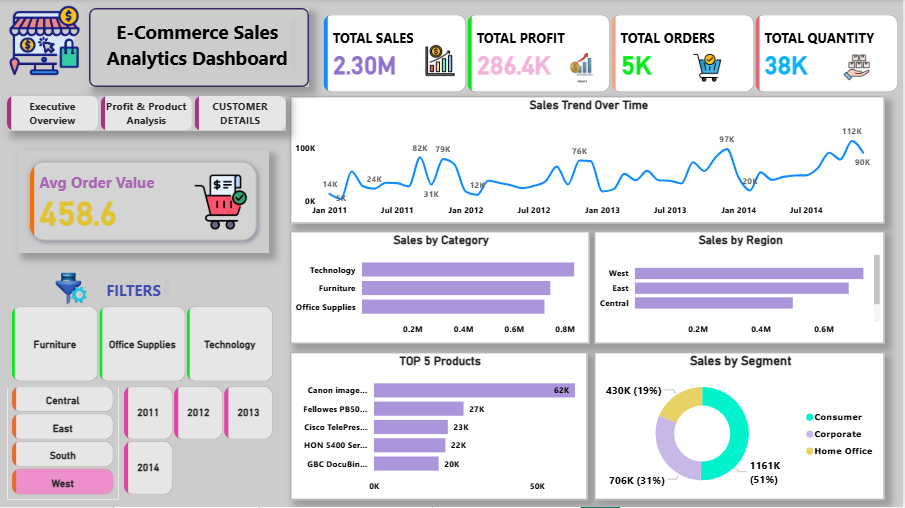

What the dashboard file says about the page in this screenshot:
{"tool":"powerbi","page":{"name":"Executive Overview","canvas":[1280,720],"ordinal":0},"visuals":[{"type":"cardVisual","fields":{"Data":["Superstore.TOTAL SALES","Superstore.TOTAL PROFIT","Superstore.TOTAL ORDERS","Superstore.TOTAL QUANTITY"]},"box":[455,17,824.9,120.5],"z":0},{"type":"lineChart","title":"Sales Trend Over Time","fields":{"Category":["Calendar.Date.Variation.Date Hierarchy.Year","Calendar.Date.Variation.Date Hierarchy.Month"],"Y":["Sum(Superstore.Sales)"]},"box":[412.4,137.5,843.3,181.4],"z":1000},{"type":"barChart","title":"Sales by Category","fields":{"Category":["Superstore.Category"],"Y":["Sum(Superstore.Sales)"]},"box":[411.8,328.3,424.8,159.8],"z":2000},{"type":"barChart","title":"Sales by Region","fields":{"Category":["Superstore.Region"],"Y":["Sum(Superstore.Sales)"]},"box":[843.8,328.3,411.8,159.8],"z":3000},{"type":"clusteredBarChart","title":"TOP 5 Products","fields":{"Category":["Superstore.Product Name"],"Y":["Superstore.TOTAL SALES"]},"box":[411.8,499.7,421.9,210.2],"z":4000},{"type":"donutChart","title":"Sales by Segment","fields":{"Category":["Superstore.Segment"],"Y":["Superstore.TOTAL SALES"]},"box":[843.8,499.7,411.8,210.2],"z":5000},{"type":"advancedSlicerVisual","fields":{"Values":["Superstore.Region"]},"box":[11.3,541.4,158.7,168.7],"z":6000},{"type":"advancedSlicerVisual","fields":{"Values":["Superstore.Category"]},"box":[11.3,428,384.1,121.9],"z":7000},{"type":"advancedSlicerVisual","fields":{"Values":["Calendar.Date.Variation.Date Hierarchy.Year"]},"box":[170.1,541.4,225.4,168.7],"z":8000},{"type":"shape","box":[127.6,12.8,311.8,112],"z":9000},{"type":"textbox","box":[141.7,22.7,284.9,90.7],"z":10000},{"type":"image","box":[0,2.8,127.6,112],"z":11000},{"type":"cardVisual","fields":{"Data":["Superstore.AVG ORDER VALUE"]},"box":[26.9,214,355.7,146],"z":12000},{"type":"image","box":[1192,69.4,46.8,55.3],"z":13000},{"type":"image","box":[978,69.4,52.4,55.3],"z":14000},{"type":"image","box":[785.2,65.2,82.2,65.2],"z":15000},{"type":"image","box":[596.7,59.5,56.7,55.3],"z":16000},{"type":"textbox","box":[141.7,392.6,104.9,35.4],"z":17000},{"type":"image","box":[49.6,382.7,104.9,55.3],"z":18000},{"type":"pageNavigator","box":[11.3,137.5,395.4,49.6],"z":19000},{"type":"image","box":[269.3,243.8,90.7,87.9],"z":20000}]}

Visuals, with their boxes in screenshot pixels (x1, y1, x2, y2), scaled from the page's 1280x720 canvas onto the 905x508 screenshot:
cardVisual - Superstore.TOTAL SALES x Superstore.TOTAL PROFIT: locate(322, 12, 904, 97)
"Sales Trend Over Time" lineChart: locate(292, 97, 888, 225)
"Sales by Category" barChart: locate(291, 232, 592, 344)
"Sales by Region" barChart: locate(597, 232, 888, 344)
"TOP 5 Products" clusteredBarChart: locate(291, 353, 589, 501)
"Sales by Segment" donutChart: locate(597, 353, 888, 501)
advancedSlicerVisual - Superstore.Region: locate(8, 382, 120, 501)
advancedSlicerVisual - Superstore.Category: locate(8, 302, 280, 388)
advancedSlicerVisual - Calendar.Date.Variation.Date Hierarchy.Year: locate(120, 382, 280, 501)
shape: locate(90, 9, 311, 88)
textbox: locate(100, 16, 302, 80)
image: locate(0, 2, 90, 81)
cardVisual - Superstore.AVG ORDER VALUE: locate(19, 151, 271, 254)
image: locate(843, 49, 876, 88)
image: locate(691, 49, 729, 88)
image: locate(555, 46, 613, 92)
image: locate(422, 42, 462, 81)
textbox: locate(100, 277, 174, 302)
image: locate(35, 270, 109, 309)
pageNavigator: locate(8, 97, 288, 132)
image: locate(190, 172, 255, 234)
